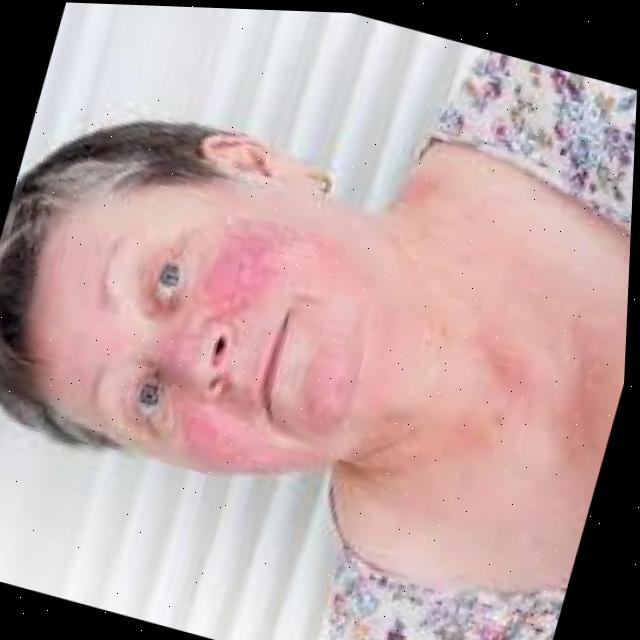Rosacea: (186, 200, 321, 336), (152, 391, 271, 477), (289, 334, 368, 433), (141, 326, 202, 381)
